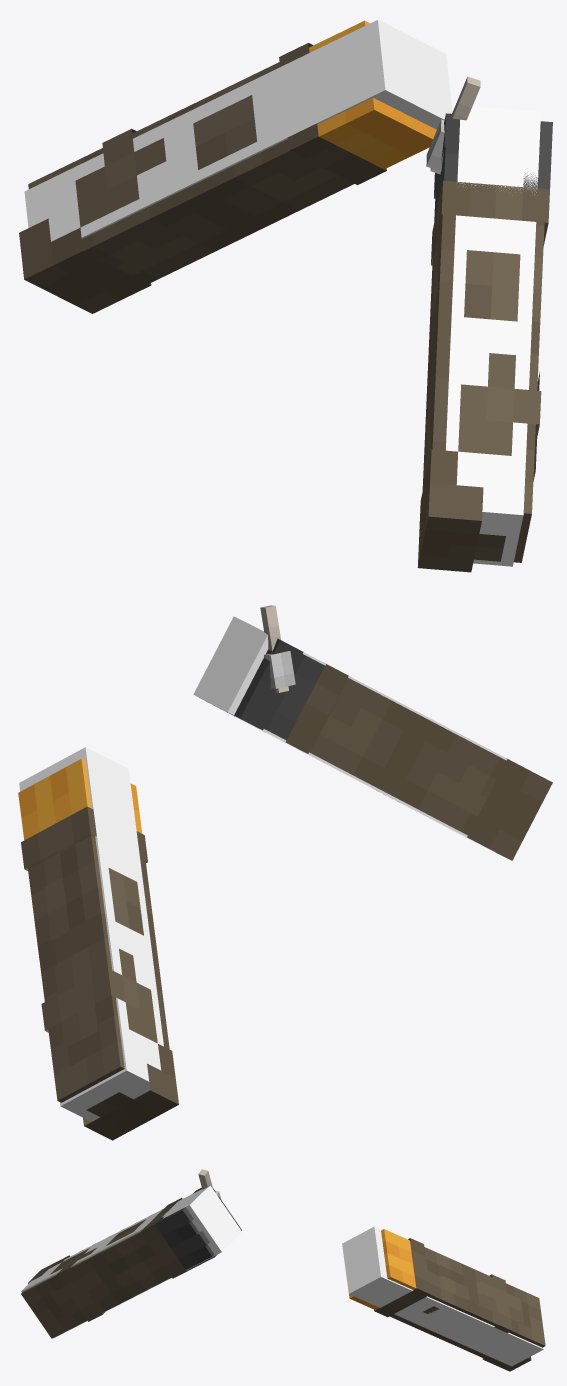
The model's file is lev.promedol.glb.
The picture shows the model from 3 angles, top to bottom: view 1: azimuth 30°, elevation 25°; view 2: azimuth 150°, elevation 25°; view 3: azimuth 270°, elevation 25°; orthographic projection. The views are drawn at different scales.
Visible parts, largest first — view 1: leftArmLayerSlimModel, leftArmModel, rightArmLayerModel, rightArmLayerSlimModel, leftArmLayerModel, rightArmModel, p_2; view 2: leftArmModel, rightArmModel, leftArmLayerModel, leftArmLayerSlimModel, rightArmLayerModel, rightArmLayerSlimModel, h2; view 3: leftArmLayerSlimModel, rightArmModel, leftArmModel, rightArmLayerModel, rightArmLayerSlimModel, leftArmLayerModel.
Boxes of the visible parts, bbox=[...] form: leftArmLayerSlimModel: bbox=[24, 20, 452, 241]; leftArmModel: bbox=[28, 20, 436, 283]; rightArmLayerModel: bbox=[417, 113, 552, 572]; rightArmLayerSlimModel: bbox=[445, 106, 540, 566]; leftArmLayerModel: bbox=[19, 43, 386, 313]; rightArmModel: bbox=[422, 147, 544, 562]; p_2: bbox=[452, 76, 480, 120]; leftArmModel: bbox=[18, 758, 169, 1102]; rightArmModel: bbox=[264, 654, 506, 835]; leftArmLayerModel: bbox=[21, 806, 178, 1140]; leftArmLayerSlimModel: bbox=[19, 747, 163, 1121]; rightArmLayerModel: bbox=[206, 638, 552, 860]; rightArmLayerSlimModel: bbox=[193, 616, 507, 851]; h2: bbox=[264, 647, 295, 692]; leftArmLayerSlimModel: bbox=[342, 1226, 543, 1366]; rightArmModel: bbox=[21, 1200, 214, 1338]; leftArmModel: bbox=[349, 1229, 545, 1358]; rightArmLayerModel: bbox=[28, 1187, 241, 1321]; rightArmLayerSlimModel: bbox=[21, 1186, 241, 1338]; leftArmLayerModel: bbox=[374, 1238, 531, 1371].
Size of the model in its own units: 10.53 by 12.67 by 27.41.
3 materials, 3 textured.
